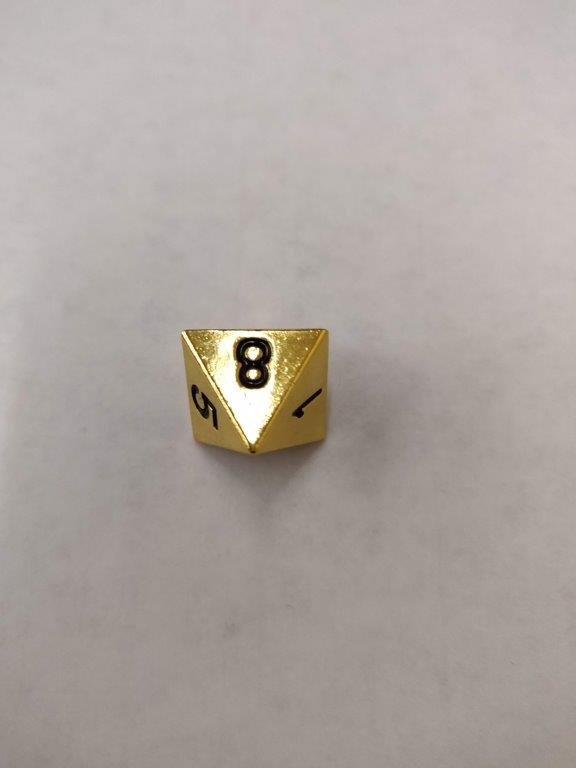d8-8: (182, 325, 331, 454)
